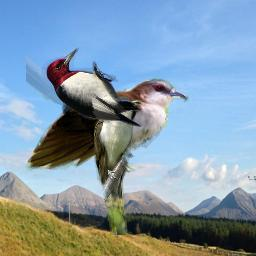Cuckoo: (26, 17, 189, 177), (94, 92, 142, 235)
Woodpecker: (41, 47, 147, 127)
